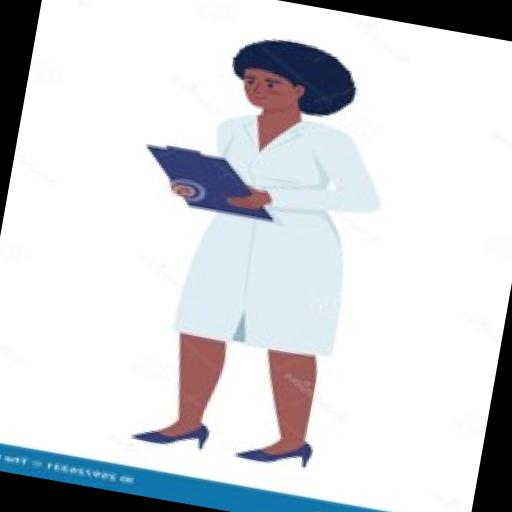human: (99, 14, 408, 484)
